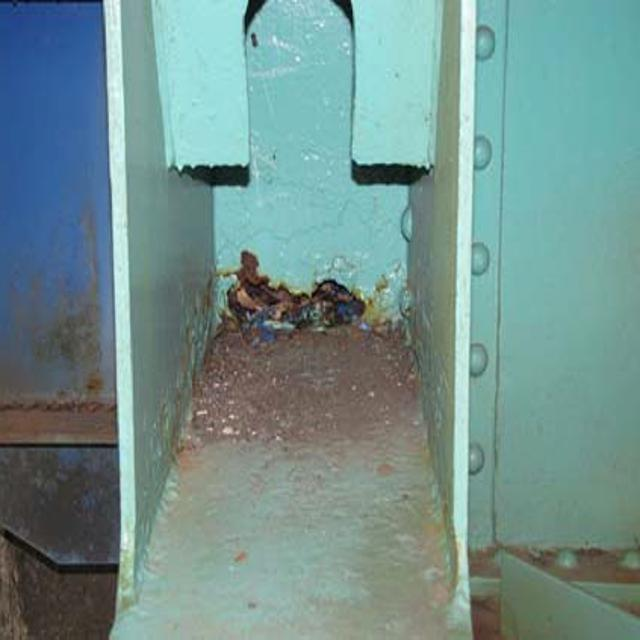corrosion: (204, 223, 394, 351)
